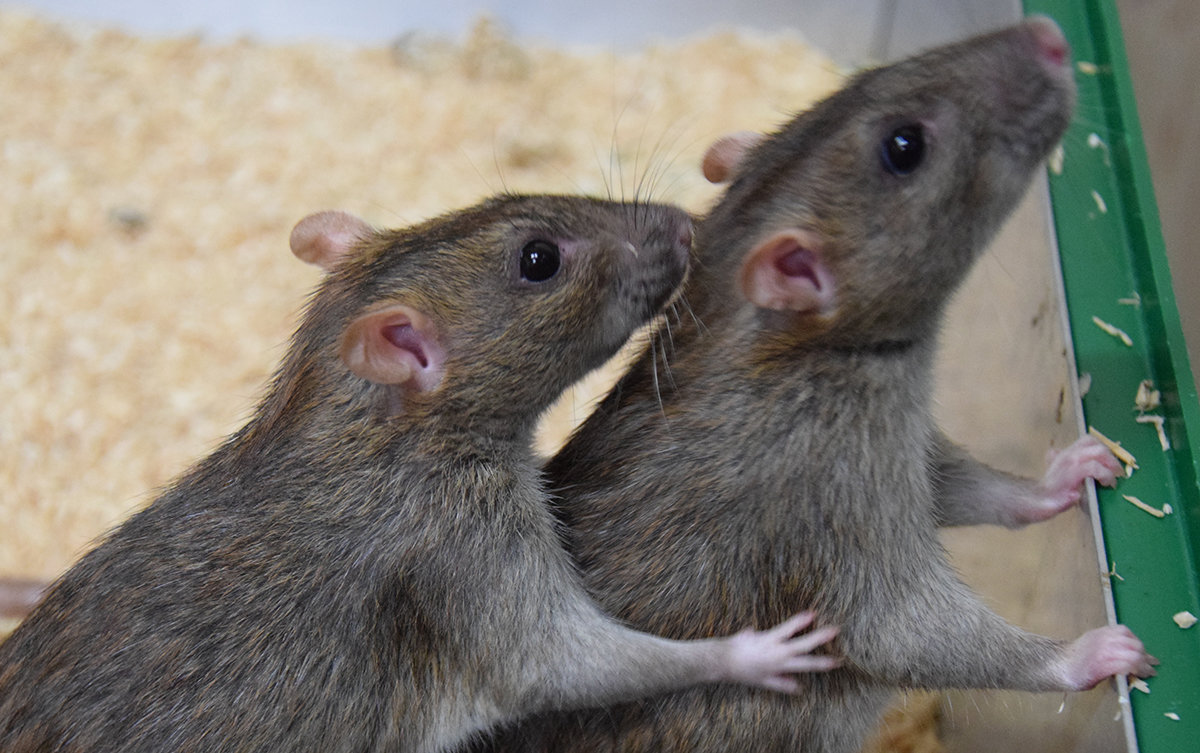rat: (14, 152, 747, 753), (625, 3, 1168, 712)
